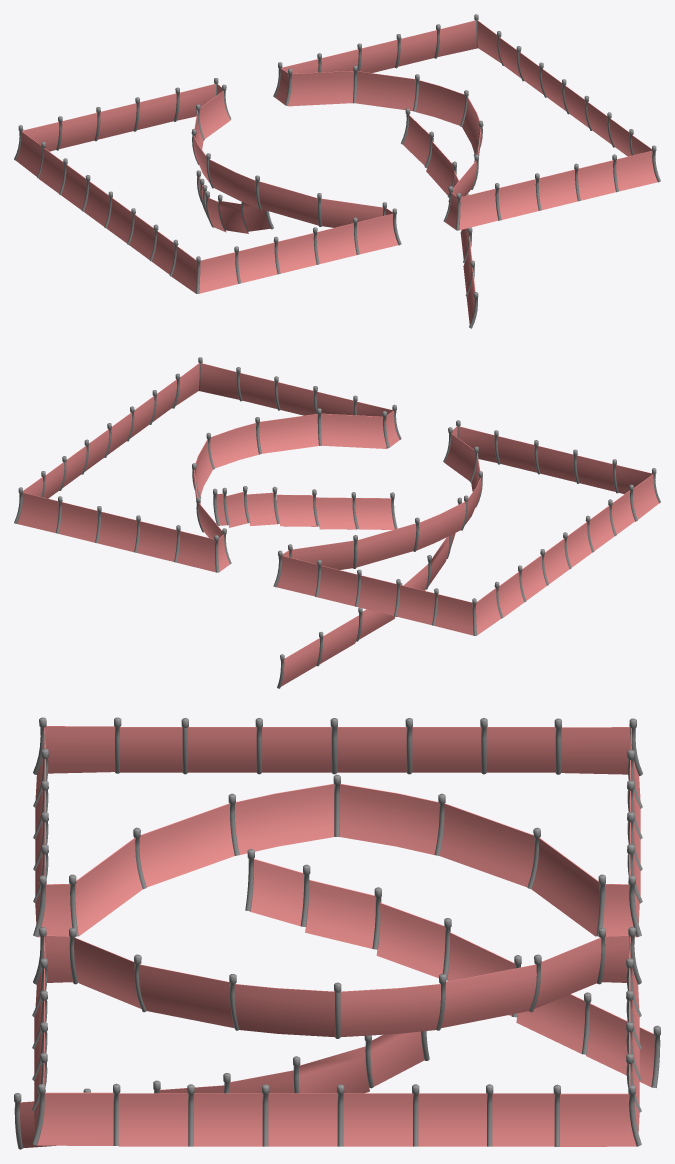
The model's file is Biotope Fence.FBX.
The picture shows the model from 3 angles, top to bottom: view 1: azimuth 30°, elevation 25°; view 2: azimuth 150°, elevation 25°; view 3: azimuth 270°, elevation 25°; orthographic projection. The views are drawn at different scales.
Visible parts, largest first — view 1: Object012; view 2: Object012; view 3: Object012.
Boxes of the visible parts, x1,y1,x2,y2 form: Object012: [14, 14, 660, 328]; Object012: [14, 357, 660, 688]; Object012: [14, 717, 660, 1149].
Size of the model in its own units: 1605 by 474 by 1162.
